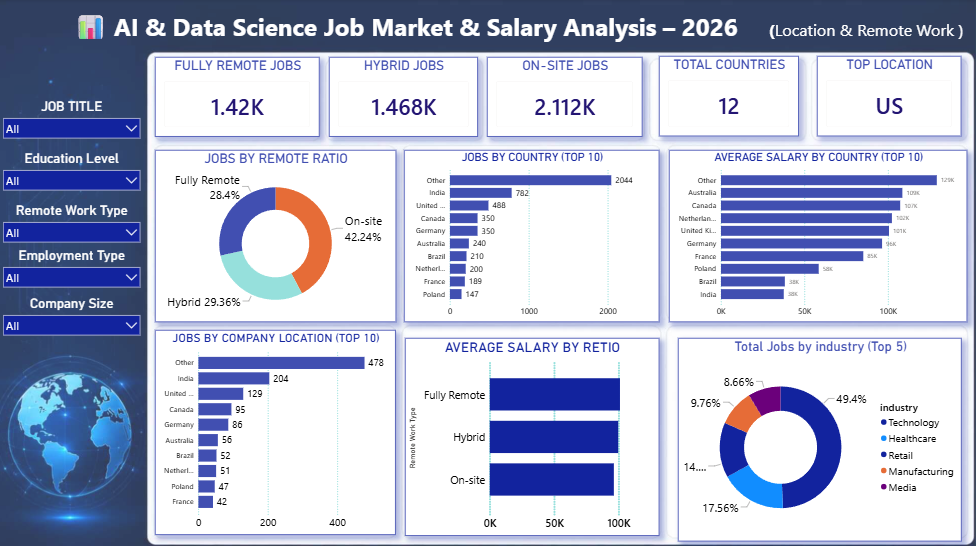

Layout of this report page (visuals, bound fields, positions):
{"tool":"powerbi","page":{"name":"Location & Remote Work","canvas":[1938,1090],"ordinal":3},"visuals":[{"type":"barChart","title":"JOBS BY COUNTRY (TOP 10)","fields":{"Category":["AI_Jobs_2026.Company Country"],"Y":["AI_Jobs_2026.Total Jobs"]},"box":[803.7,300.1,506.1,340.8],"z":0},{"type":"barChart","title":"AVERAGE SALARY BY COUNTRY (TOP 10)","fields":{"Category":["AI_Jobs_2026.Company Country"],"Y":["AI_Jobs_2026.Average Salary"]},"box":[1329.8,299.3,590.6,340.9],"z":1000},{"type":"donutChart","title":" JOBS BY REMOTE RATIO","fields":{"Category":["AI_Jobs_2026.Remote Work Type"],"Y":["CountNonNull(AI_Jobs_2026.job_title)"]},"box":[311.1,299.3,477.6,340.9],"z":2000},{"type":"barChart","title":"AVERAGE SALARY BY RETIO","fields":{"Category":["AI_Jobs_2026.Remote Work Type"],"Y":["AI_Jobs_2026.Average Salary"]},"box":[806.2,671.4,503.6,391.7],"z":3000},{"type":"donutChart","title":"Total Jobs by industry (Top 5)","fields":{"Category":["AI_Jobs_2026.industry"],"Y":["AI_Jobs_2026.Total Jobs"]},"box":[1347.2,671.4,562.4,403.3],"z":4000},{"type":"cardVisual","title":"TOTAL COUNTRIES","fields":{"Data":["Count(AI_Jobs_2026.company_location)"]},"box":[1310.2,113.4,276.9,159.1],"z":5000},{"type":"cardVisual","title":"FULLY REMOTE JOBS","fields":{"Data":["CountNonNull(AI_Jobs_2026.remote_ratio)"]},"box":[310.3,114.4,325.5,157.7],"z":6000},{"type":"cardVisual","title":"HYBRID JOBS","fields":{"Data":["CountNonNull(AI_Jobs_2026.remote_ratio)"]},"box":[656.2,114.4,295,157.7],"z":7000},{"type":"cardVisual","title":"ON-SITE JOBS","fields":{"Data":["CountNonNull(AI_Jobs_2026.remote_ratio)"]},"box":[969,114.4,307.7,157.7],"z":8000},{"type":"cardVisual","title":"TOP LOCATION","fields":{"Data":["Min(AI_Jobs_2026.company_location)"]},"box":[1624.1,113.4,285.6,159.1],"z":9000},{"type":"slicer","title":"JOB TITLE","fields":{"Values":["AI_Jobs_2026.job_title"]},"box":[0,196.2,292.1,104.6],"z":10000},{"type":"slicer","title":"Education Level","fields":{"Values":["AI_Jobs_2026.education_level"]},"box":[0,298.7,292.1,98.1],"z":11000},{"type":"slicer","title":"Remote Work Type","fields":{"Values":["AI_Jobs_2026.Remote Work Type"]},"box":[0,403.3,292.1,87.2],"z":12000},{"type":"slicer","title":"Employment Type","fields":{"Values":["AI_Jobs_2026.employment_type"]},"box":[0,490.5,292.1,95.9],"z":13000},{"type":"slicer","title":"Company Size","fields":{"Values":["AI_Jobs_2026.Company Size Full"]},"box":[0,586.4,292.1,85],"z":14000},{"type":"textbox","box":[0,15.3,1938,76.3],"z":15000},{"type":"clusteredBarChart","title":"JOBS BY COMPANY LOCATION (TOP 10)","fields":{"Y":["AI_Jobs_2026.Jobs Switched"],"Category":["AI_Jobs_2026.Company Country"]},"box":[310.5,656.4,477.2,406.4],"z":16000}]}

Visuals, with their boxes in screenshot pixels (x1, y1, x2, y2), scaled from the page's 1938x1090 canvas onto the 976x546 screenshot:
"JOBS BY COUNTRY (TOP 10)" barChart: crop(405, 150, 660, 321)
"AVERAGE SALARY BY COUNTRY (TOP 10)" barChart: crop(670, 150, 967, 321)
" JOBS BY REMOTE RATIO" donutChart: crop(157, 150, 397, 321)
"AVERAGE SALARY BY RETIO" barChart: crop(406, 336, 660, 533)
"Total Jobs by industry (Top 5)" donutChart: crop(678, 336, 962, 538)
"TOTAL COUNTRIES" cardVisual: crop(660, 57, 799, 136)
"FULLY REMOTE JOBS" cardVisual: crop(156, 57, 320, 136)
"HYBRID JOBS" cardVisual: crop(330, 57, 479, 136)
"ON-SITE JOBS" cardVisual: crop(488, 57, 643, 136)
"TOP LOCATION" cardVisual: crop(818, 57, 962, 136)
"JOB TITLE" slicer: crop(0, 98, 147, 151)
"Education Level" slicer: crop(0, 150, 147, 199)
"Remote Work Type" slicer: crop(0, 202, 147, 246)
"Employment Type" slicer: crop(0, 246, 147, 294)
"Company Size" slicer: crop(0, 294, 147, 336)
textbox: crop(0, 8, 975, 46)
"JOBS BY COMPANY LOCATION (TOP 10)" clusteredBarChart: crop(156, 329, 397, 532)
